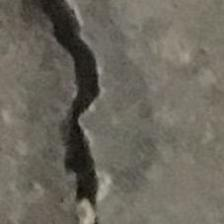Crack: (11, 0, 185, 224)
